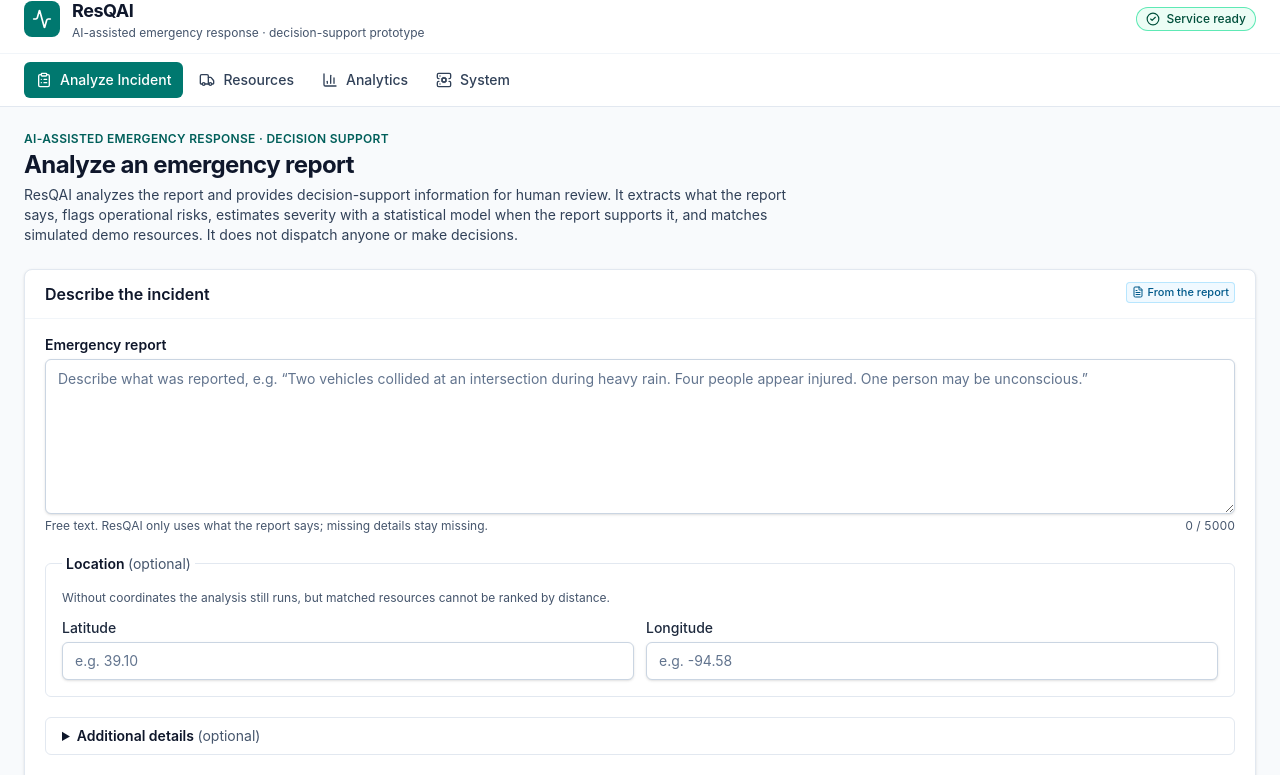
Test case: Analyze page › shows the disagreement panel for a flagged result
In the text box labelled "Emergency report": [640, 436] box [45,359,1235,514], type "Two cars collided at an intersection during heavy rain. One person may be unconscious."
(page scrolled)
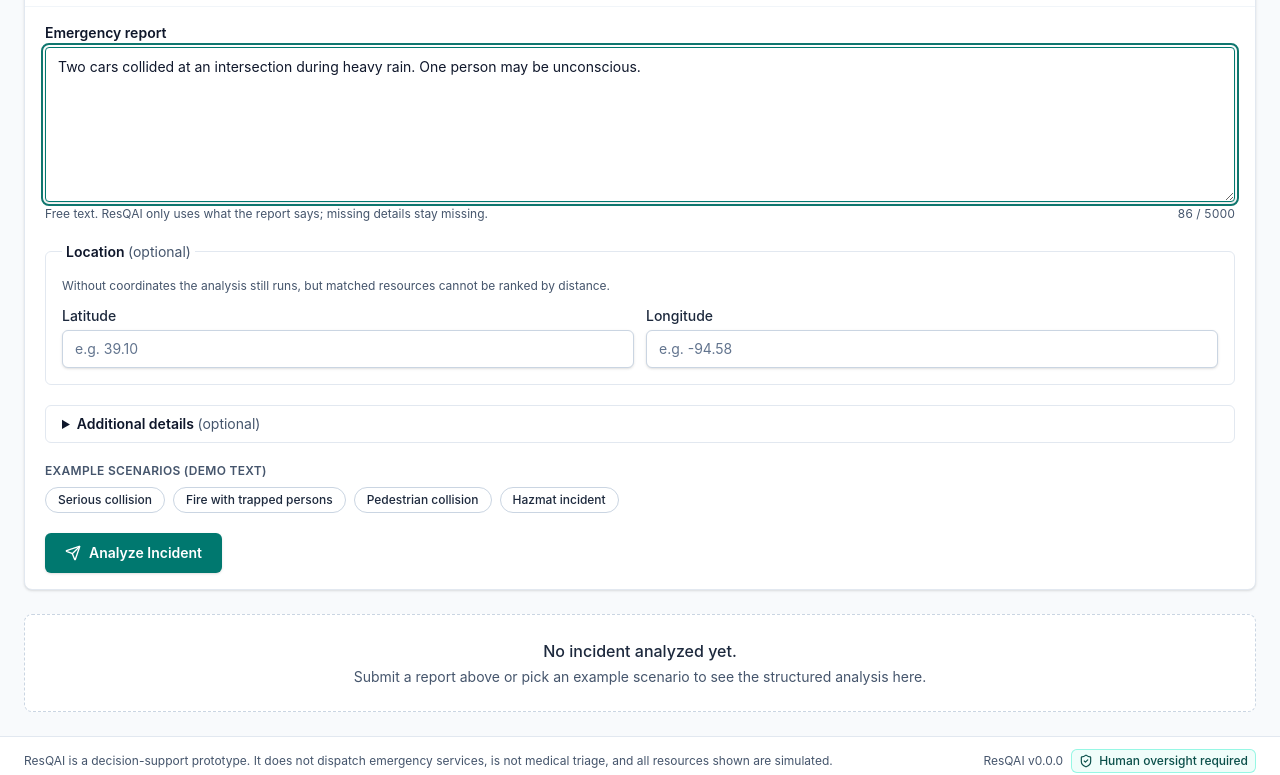
Click the button "Analyze Incident": [134, 552] box [45,532,222,572]
(page scrolled)
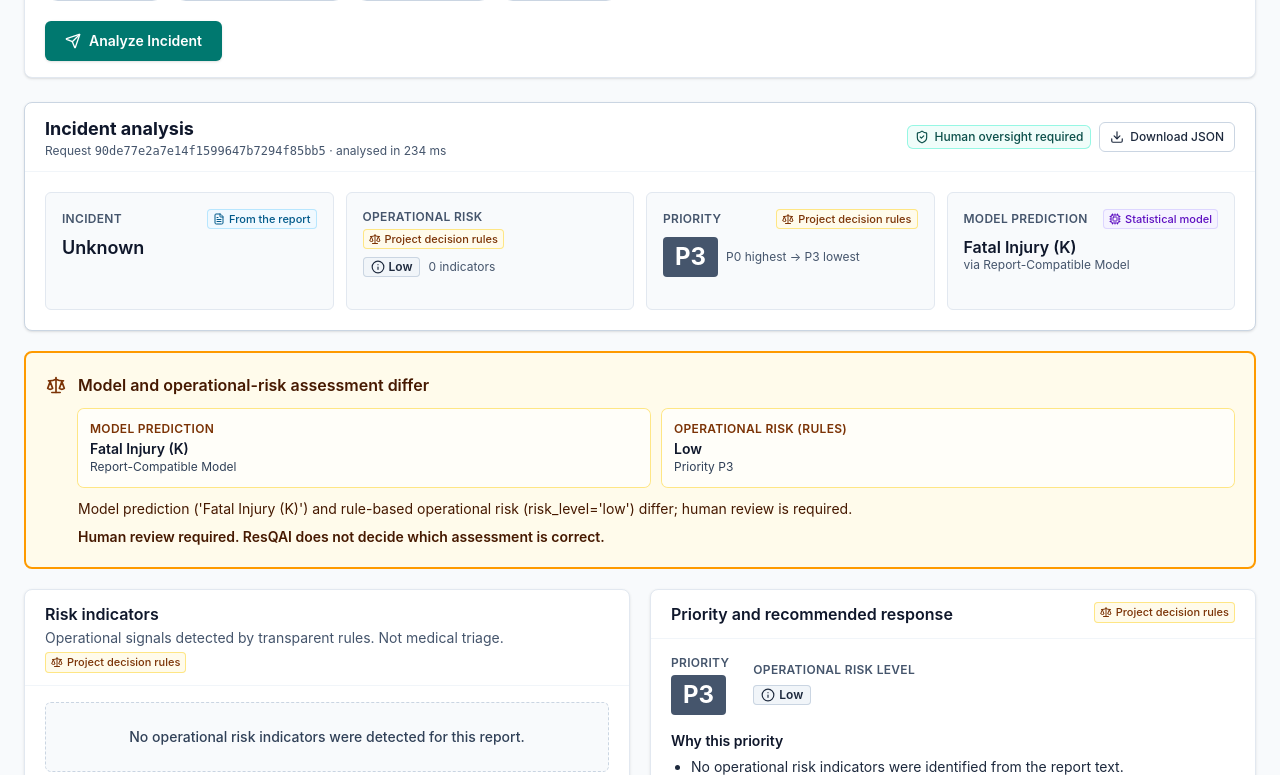
Now the heading "Model and operational-risk assessment differ" is shown, box [78,375,429,395]
